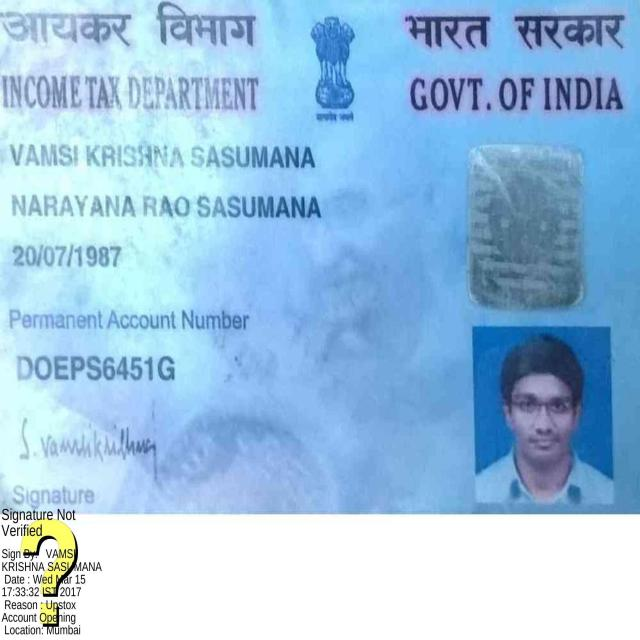pan_card: (0, 0, 639, 513)
